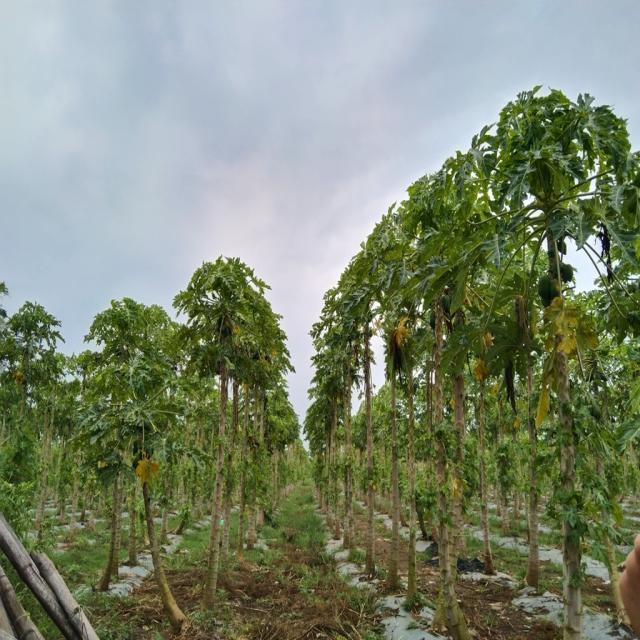Papaya-Tree: (298, 70, 640, 636), (177, 224, 276, 600), (77, 282, 178, 612), (0, 267, 68, 541)
